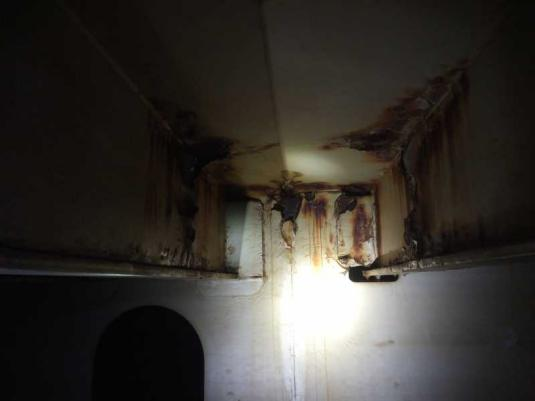corrosion: (131, 101, 256, 273), (384, 141, 510, 253), (376, 84, 455, 130), (335, 120, 397, 157), (271, 175, 303, 237), (344, 209, 379, 259), (308, 193, 327, 278), (329, 191, 359, 216)
